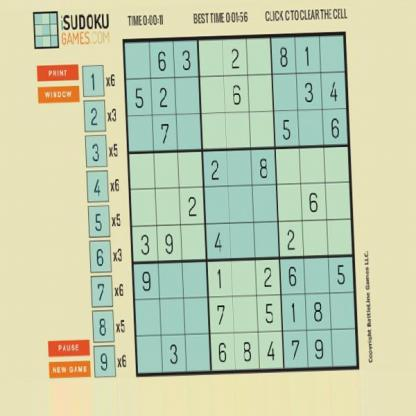sudoku: (120, 26, 363, 380)
